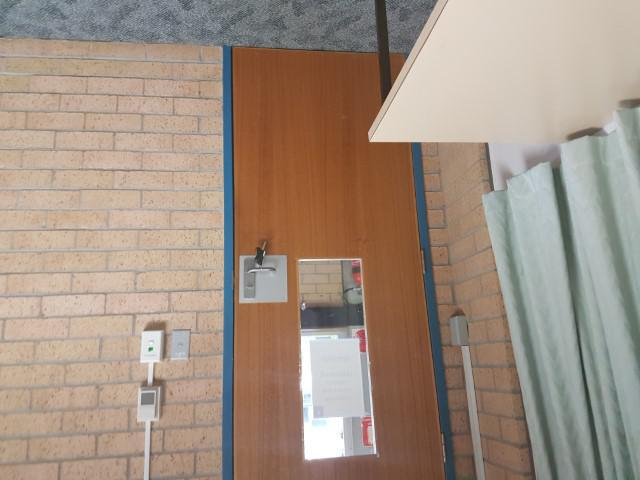key: (255, 240, 268, 264)
